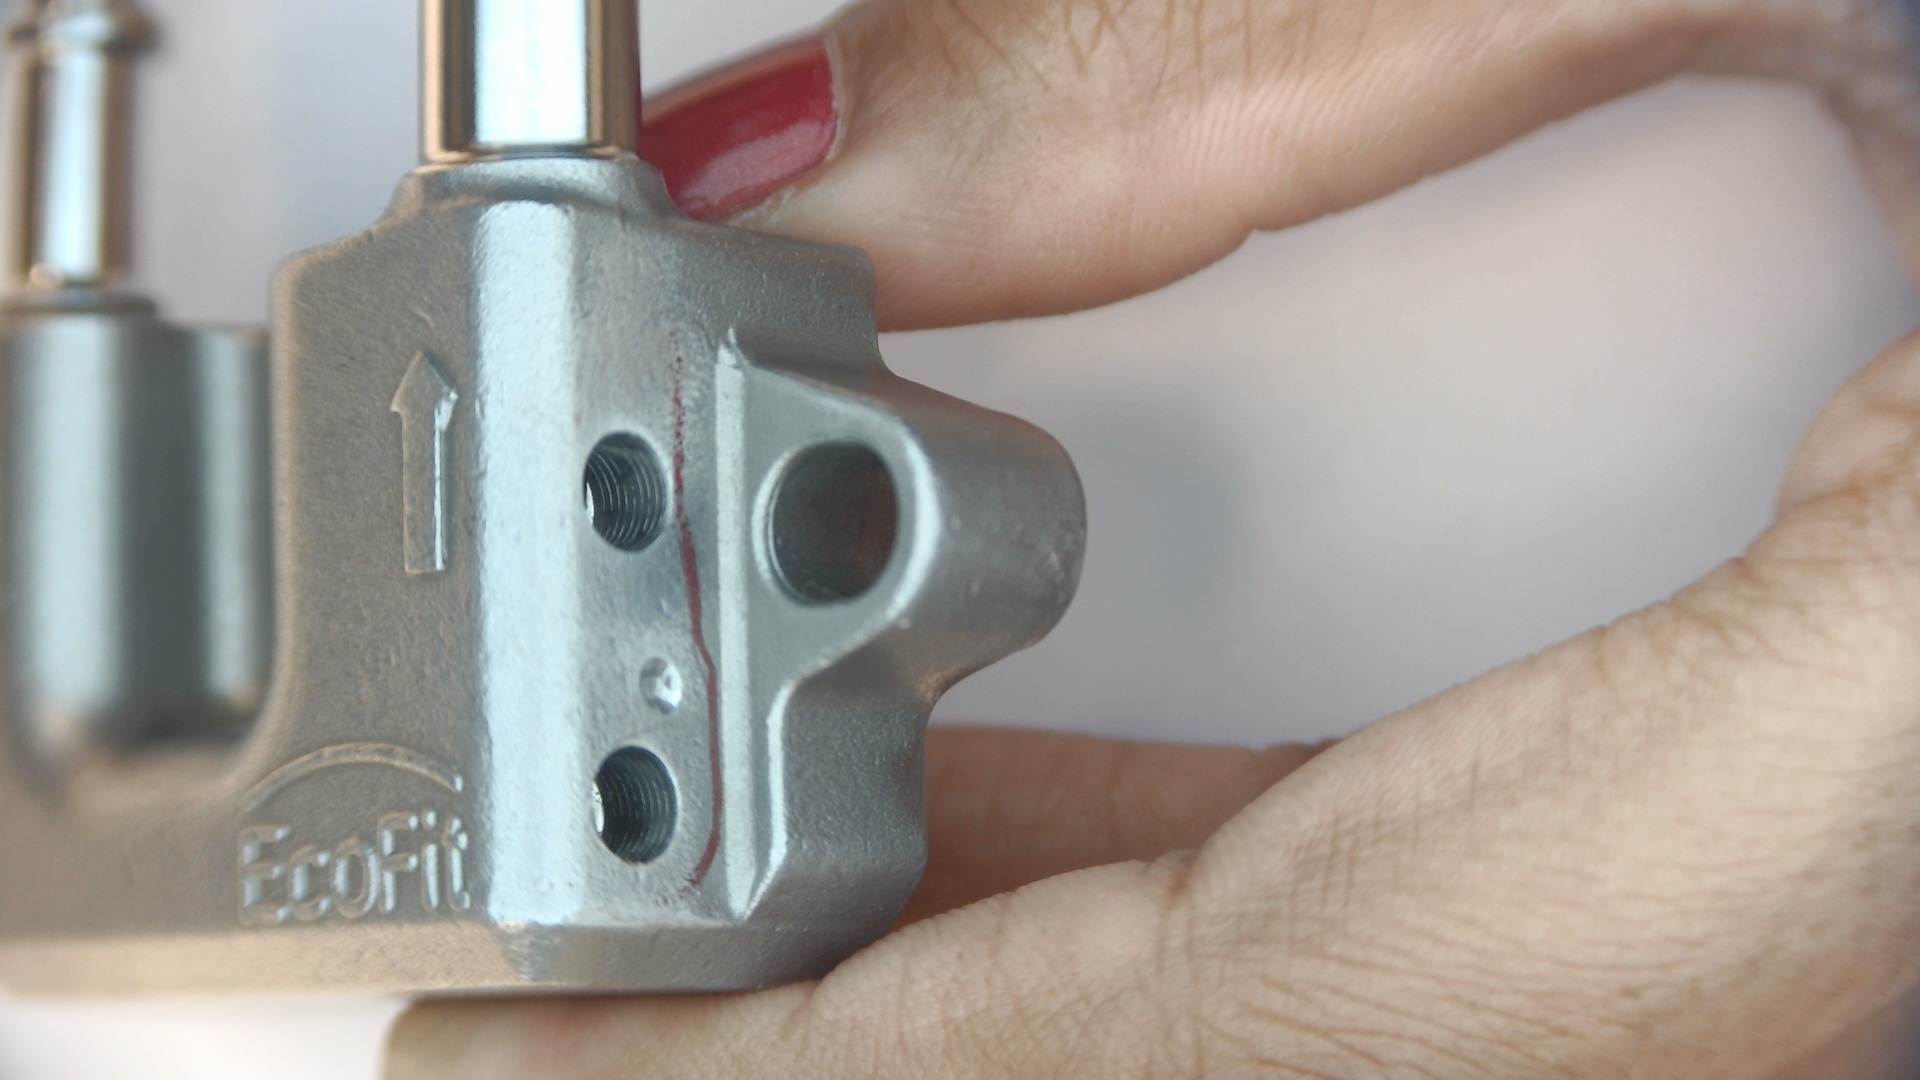thread_presence: (1138, 828, 1374, 1080)
